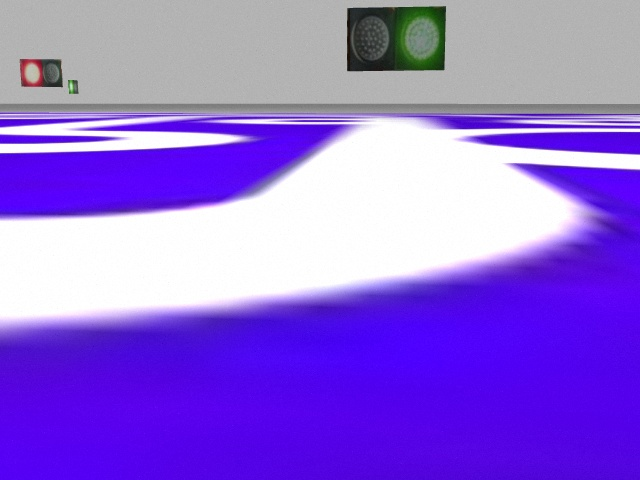green: (395, 8, 448, 69)
